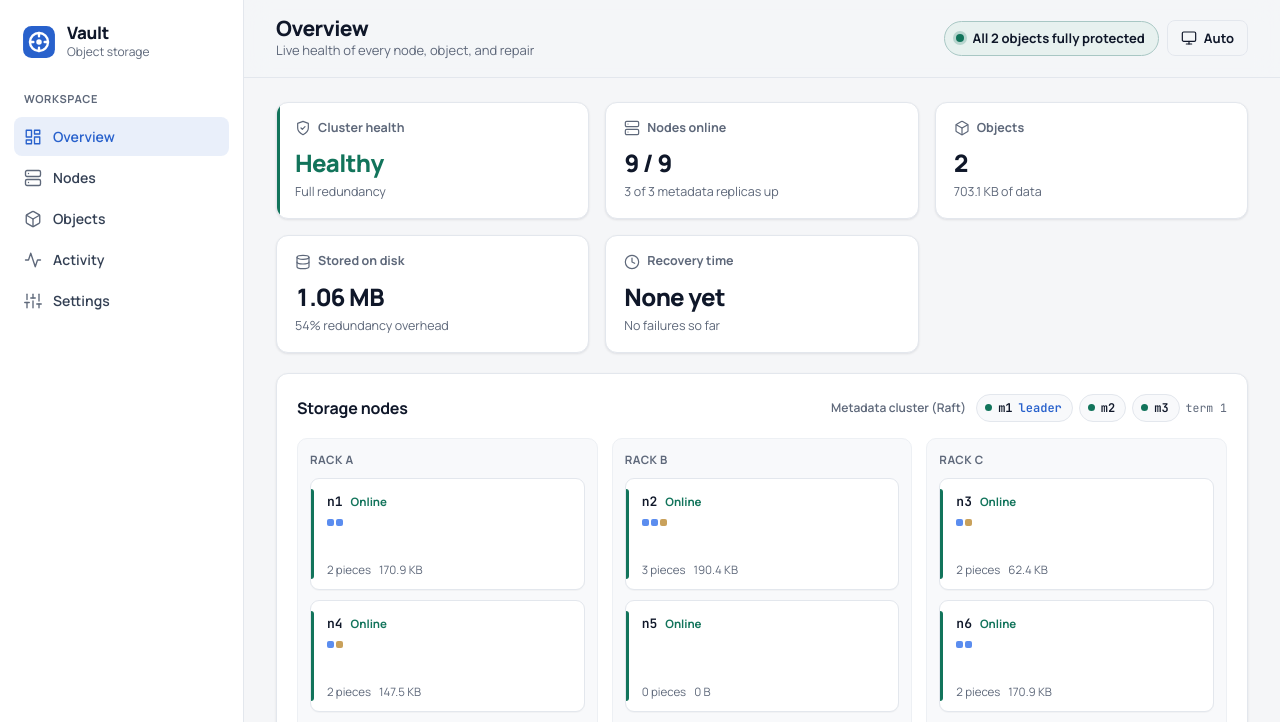
Test case: <App /> › sidebar navigation switches pages and keeps the page in the URL
The width and height of the screenshot is (1280, 722).
Check: the heading "Overview" is shown, box [276,14,368,42]
Click the link "Nodes" at (60, 178), box [24,168,96,187]
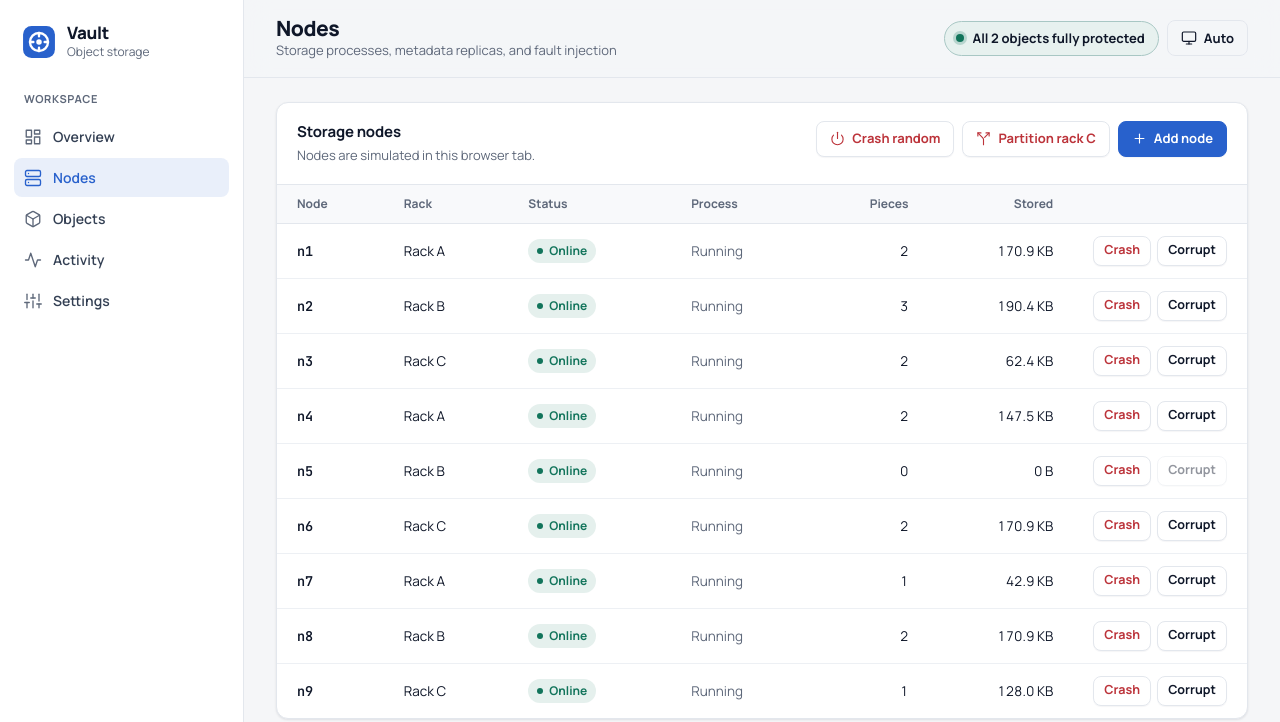
Check: the heading "Nodes" is shown, box [276,14,339,42]
Click the link "Objects" at (65, 219), box [24,209,106,228]
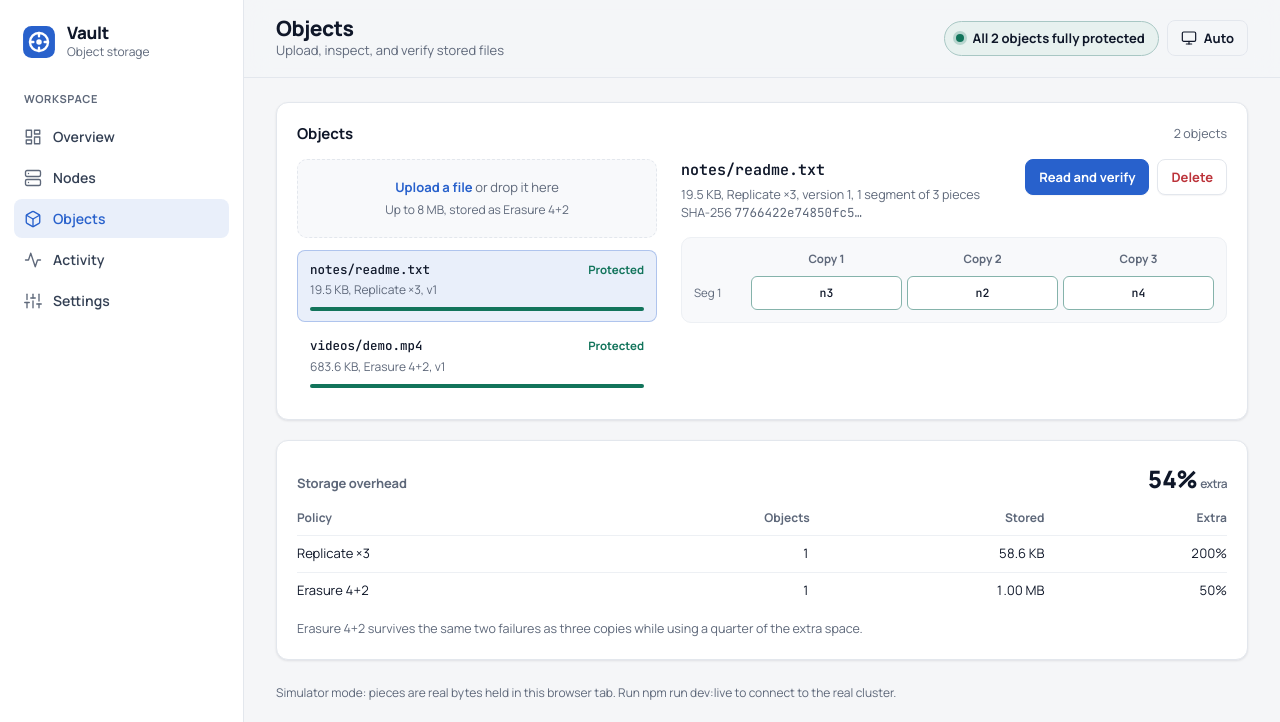
Check: the heading "Objects" in the row of "All 2 objects fully protected" is shown, box [276,14,354,42]
Click the link "Activity" at (64, 260), box [24,250,104,269]
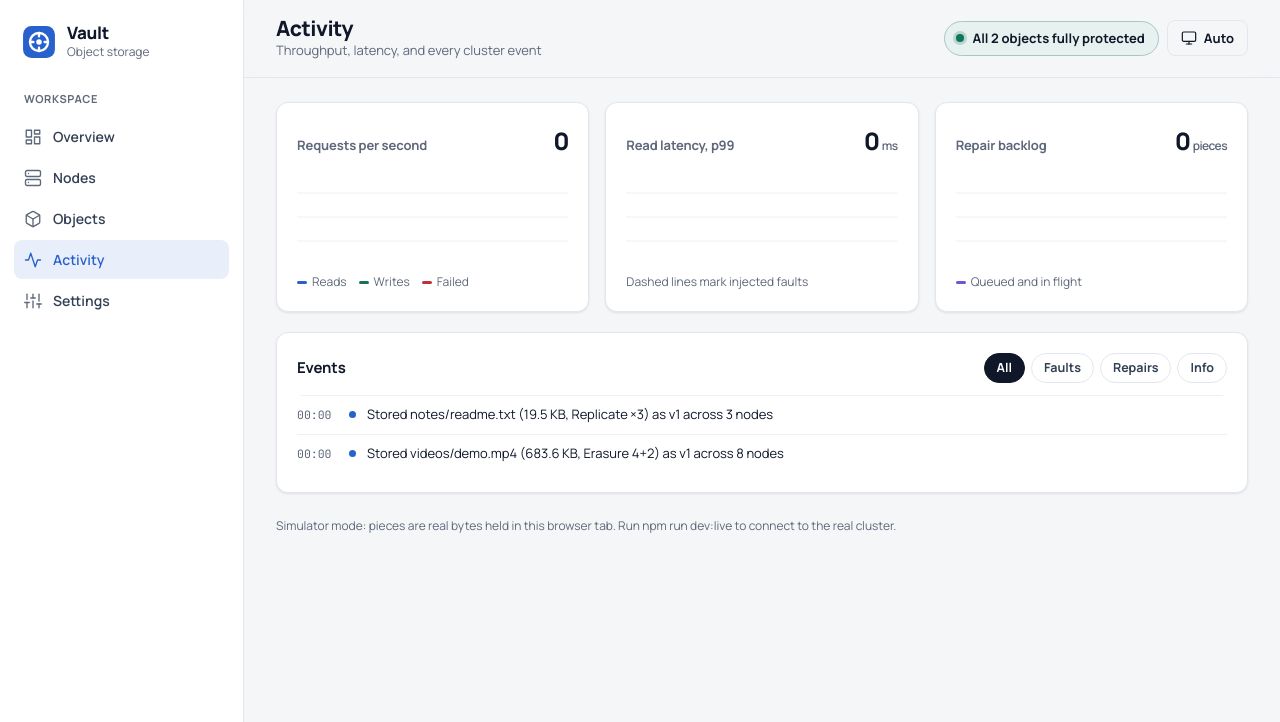
Check: the heading "Activity" is shown, box [276,14,353,42]
Click the link "Settings" at (67, 301), box [24,291,110,310]
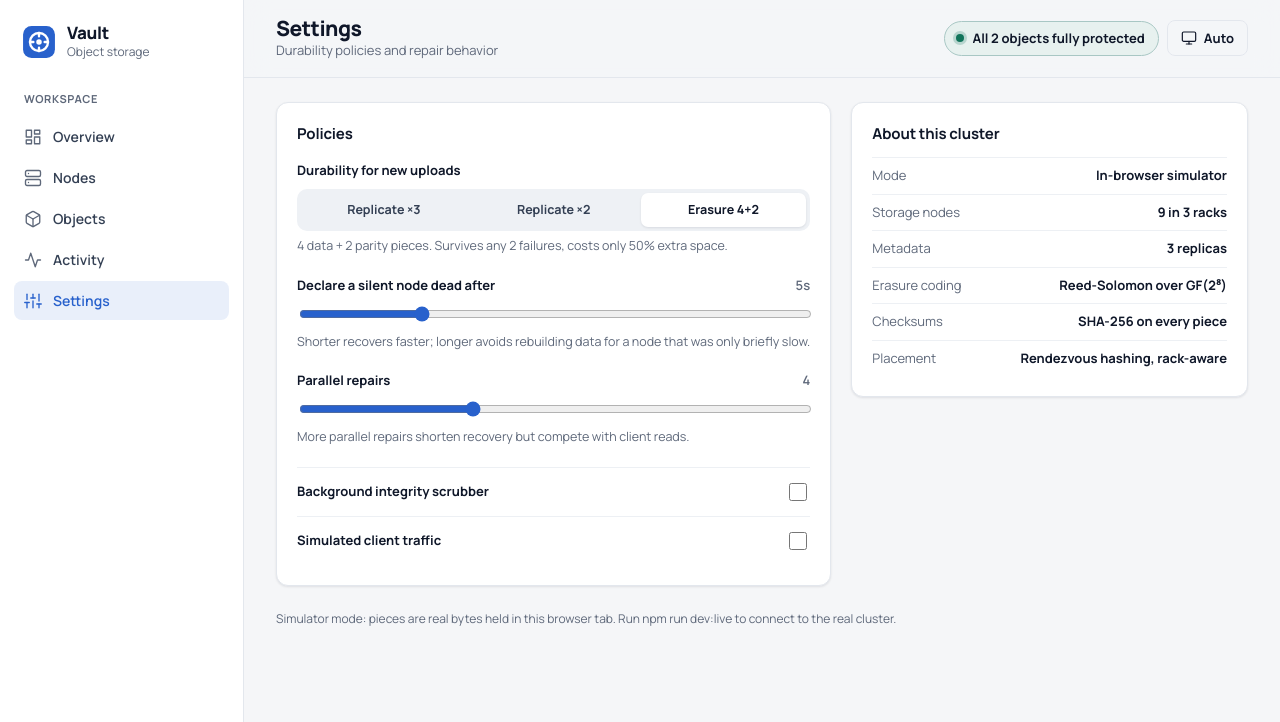
Check: the heading "Settings" is shown, box [276,14,362,42]
